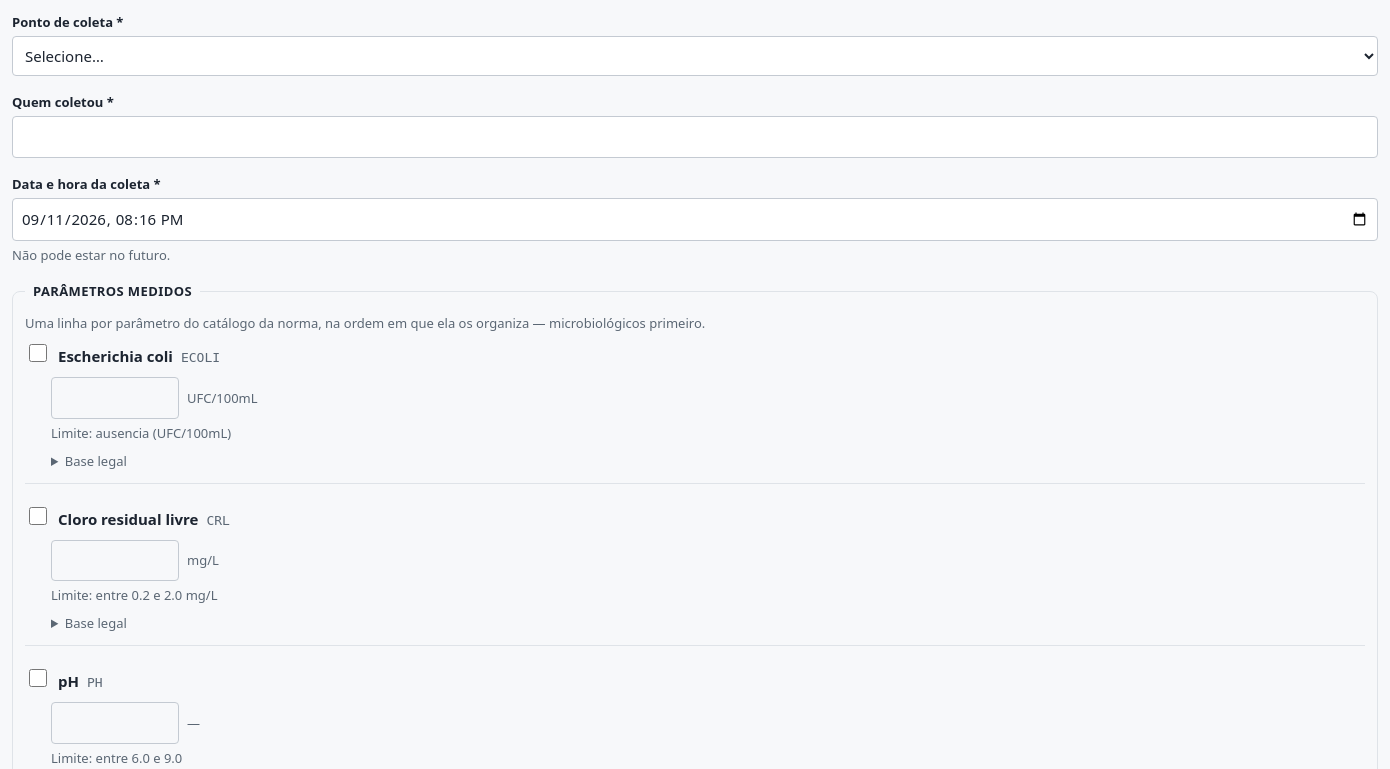
it: FormularioColeta › aceita digitar 14 no parametro de ausencia, cujo limiteMaximo e 0
Click the 1st checkbox at (38, 353), box [29,344,47,362]
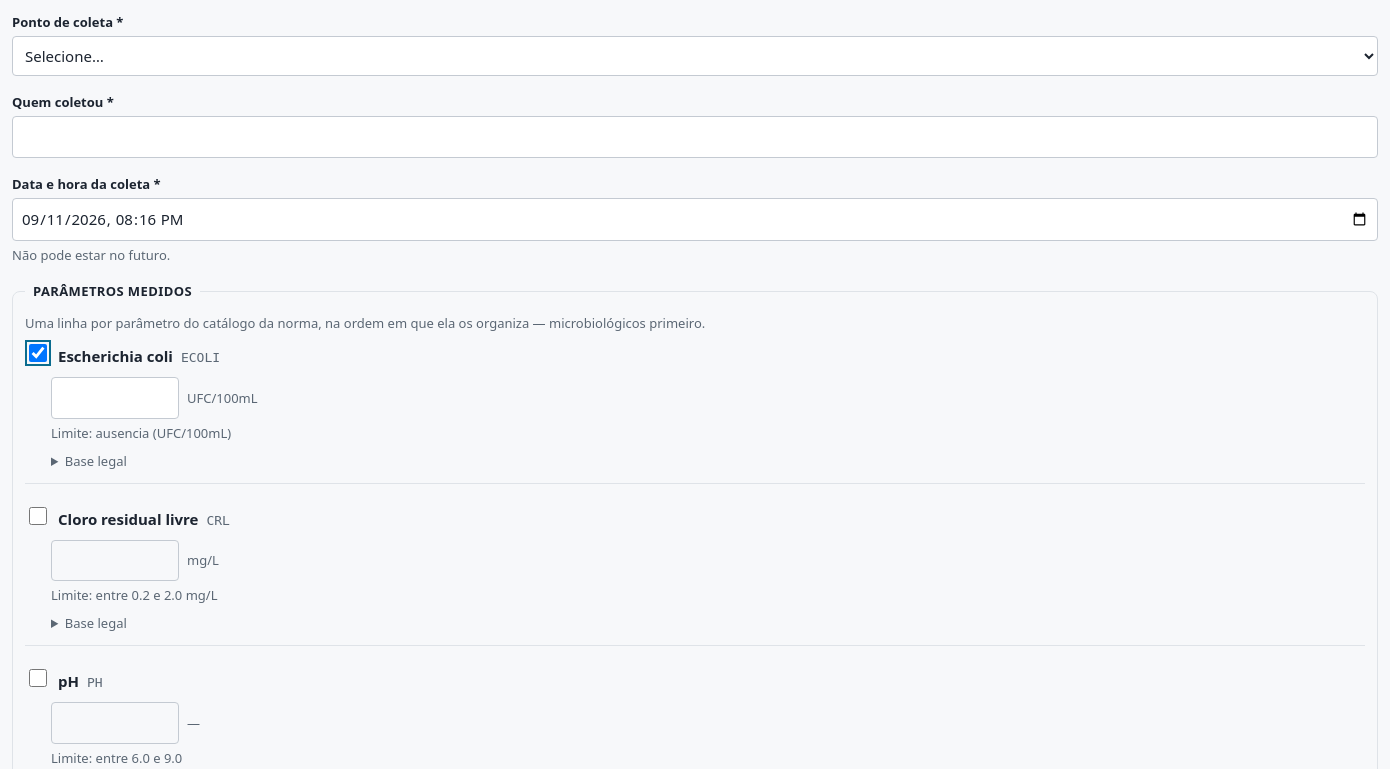
Type "14" into the field named "Valor medido de Escherichia coli" below "Escherichia coli" at (115, 398), box [51,377,179,419]
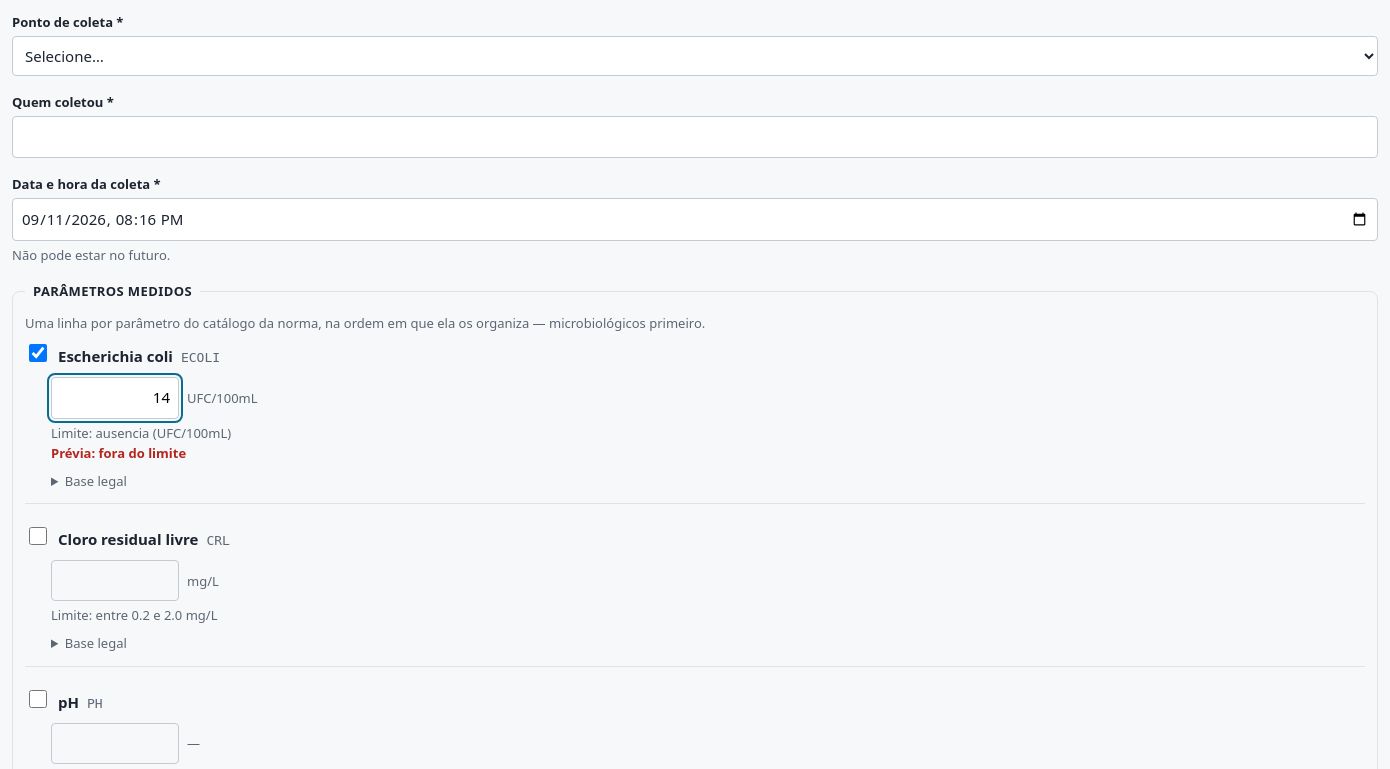
Expected: the list item that starts with "Escherichia coli" shows "Prévia: fora do limite", [51,444,186,462]
